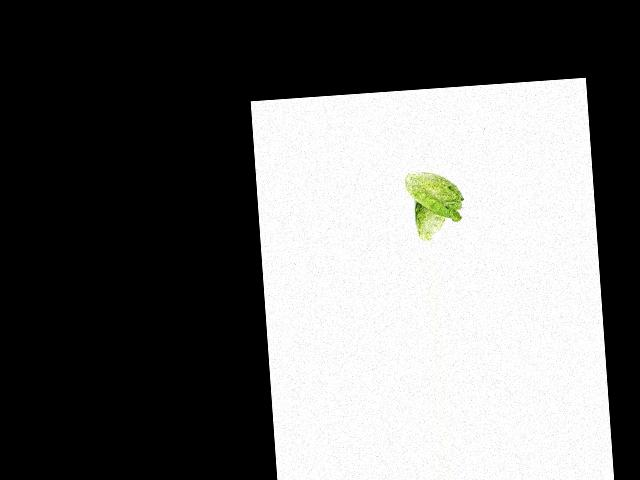lettuce: (411, 199, 448, 243)
